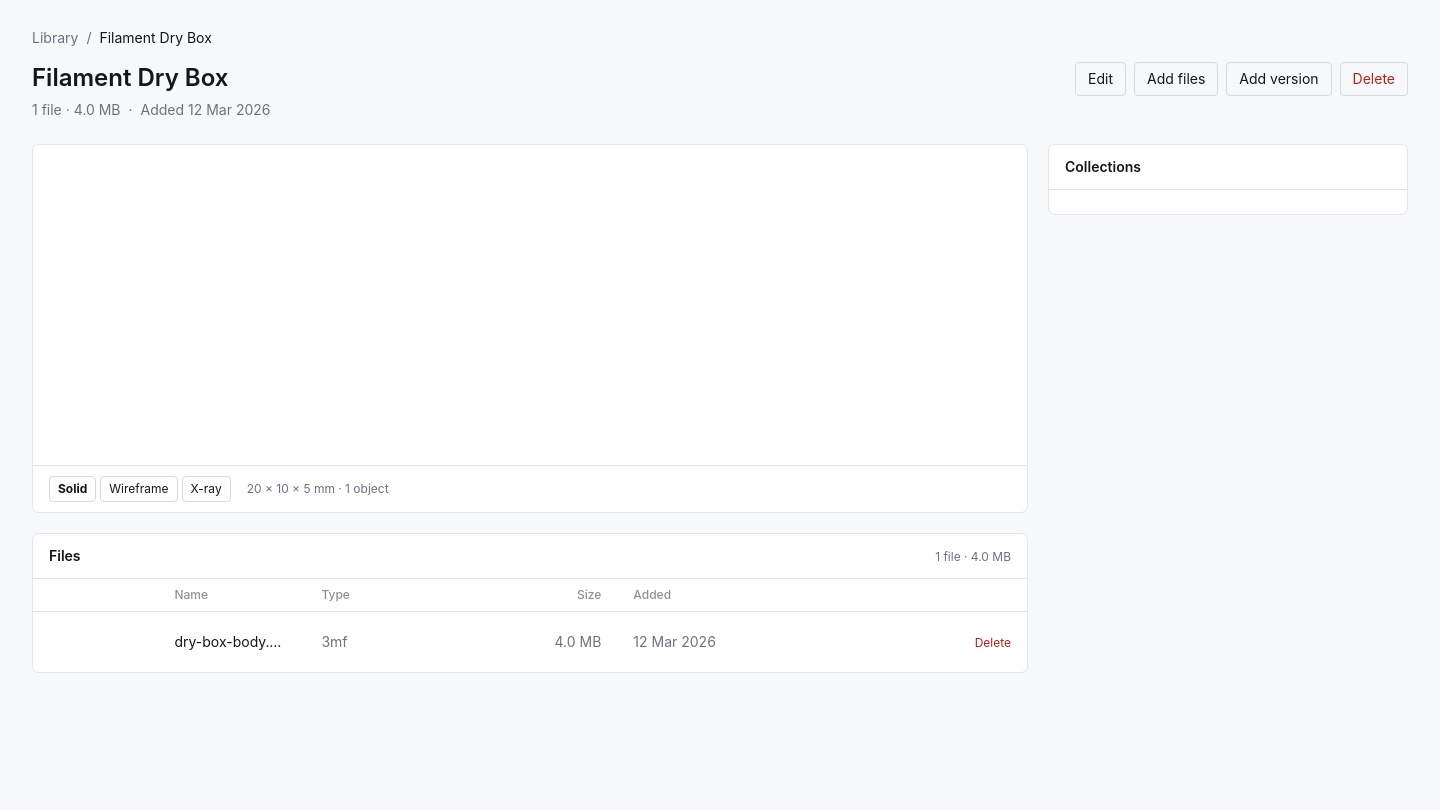
Test: model detail page › stays on the page when deleting the model fails
Expected: the heading "Filament Dry Box" is shown, [32,63,228,92]
Click the 1st button "Delete" at (1374, 79), box [1340,62,1408,96]
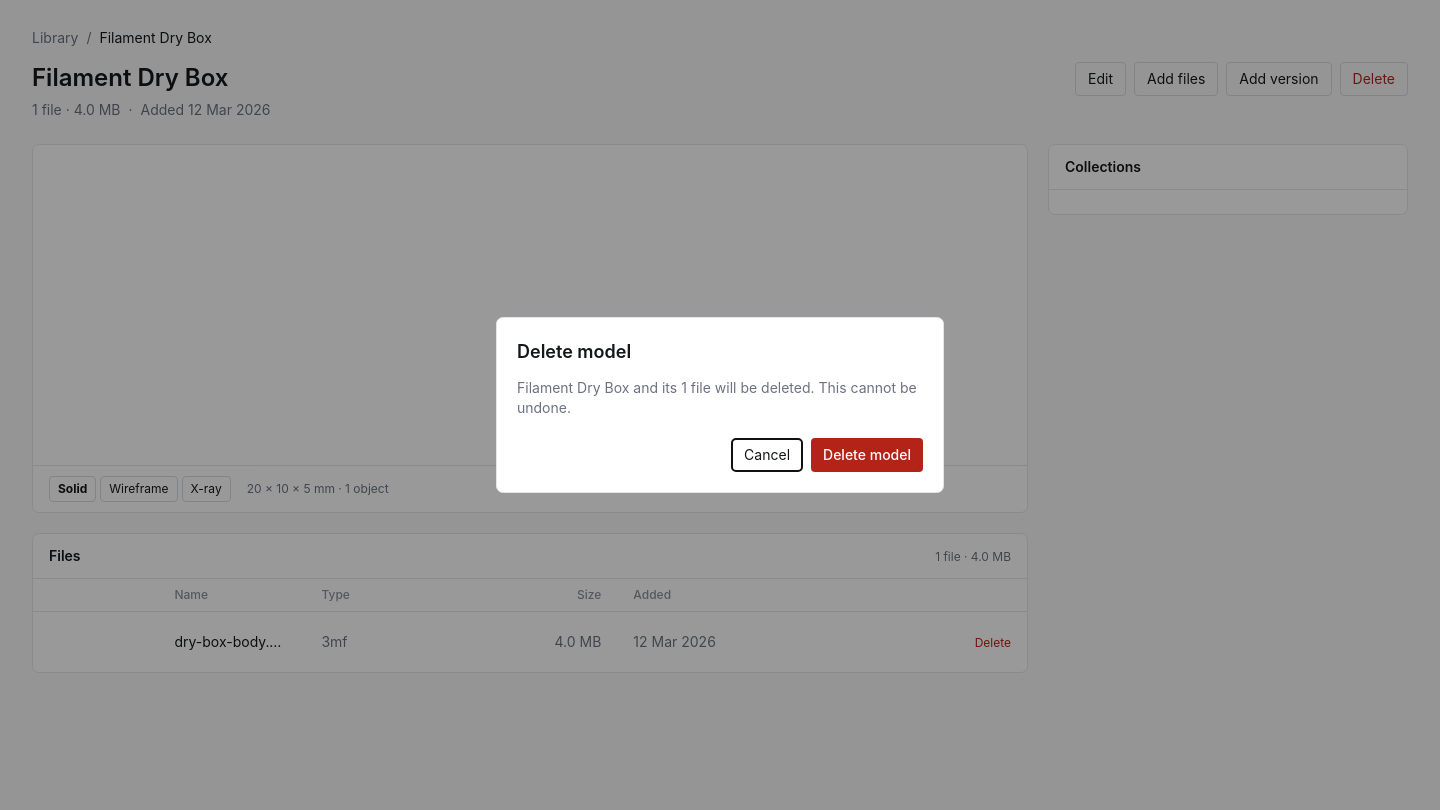
Click the button "Delete model" at (867, 455), box [811,438,923,472]
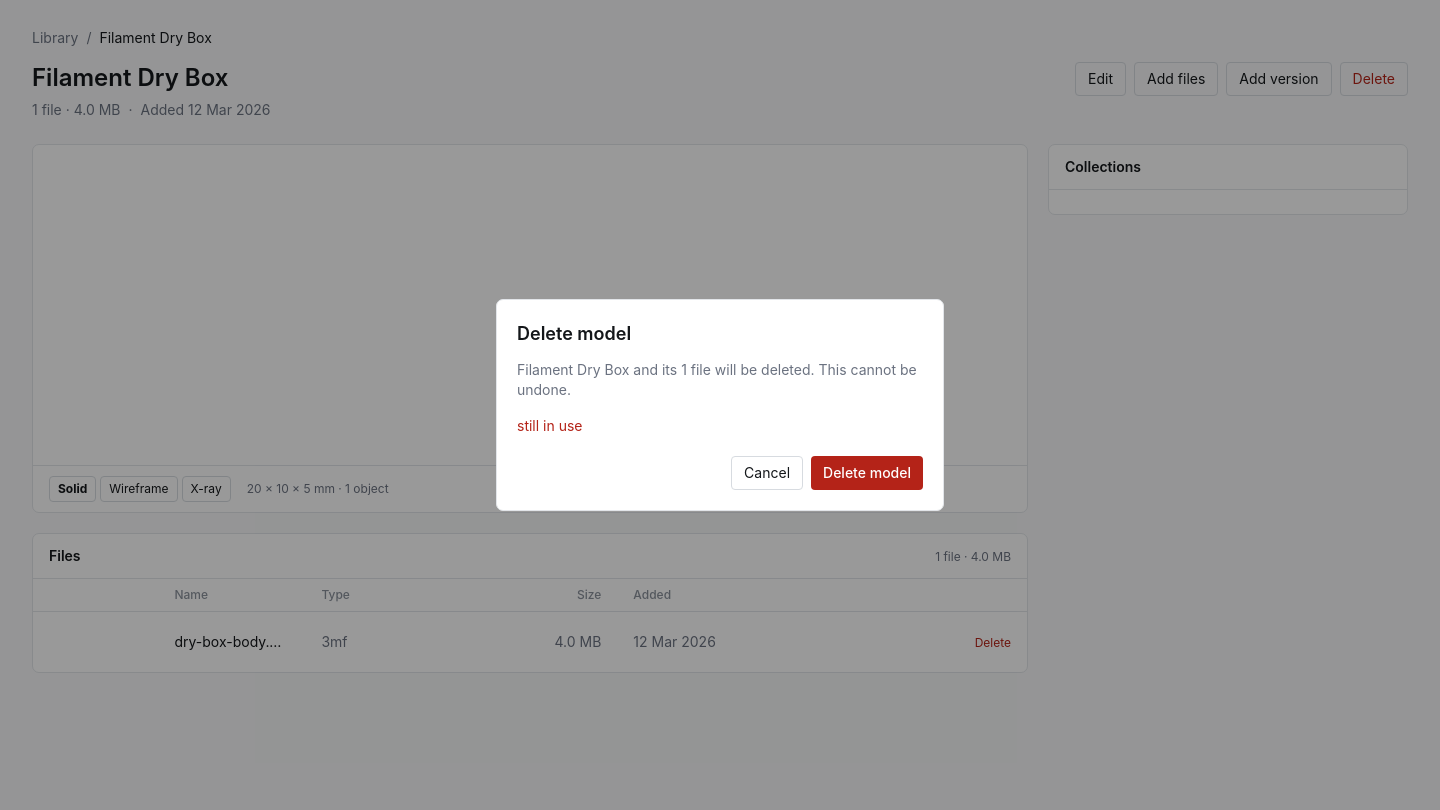
Now the message reads "still in use", box [517,417,582,434]
